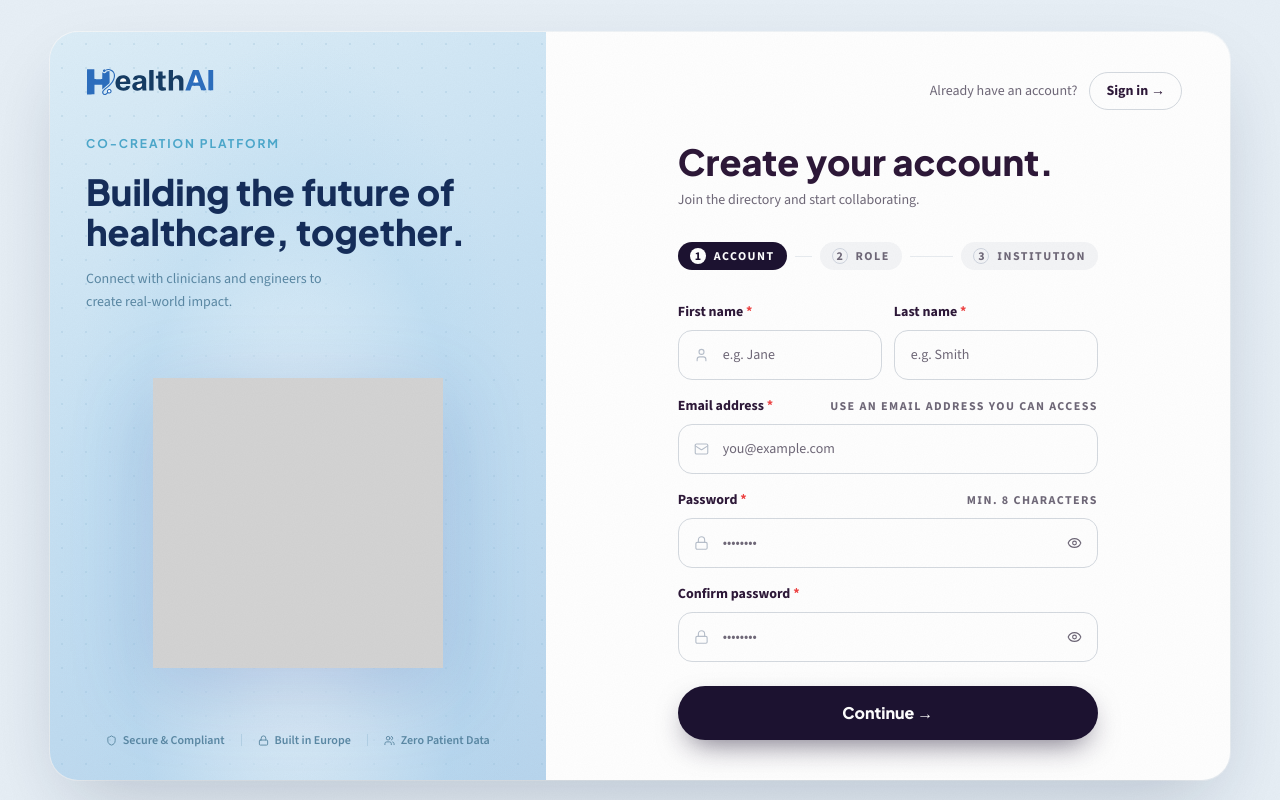
Test: RegisterPage — account step › stays on the account step and explains the problem when the passwords differ
In the field labelled "First name *": x=780, y=355 x1=678 y1=330 x2=882 y2=380, type "Alice"
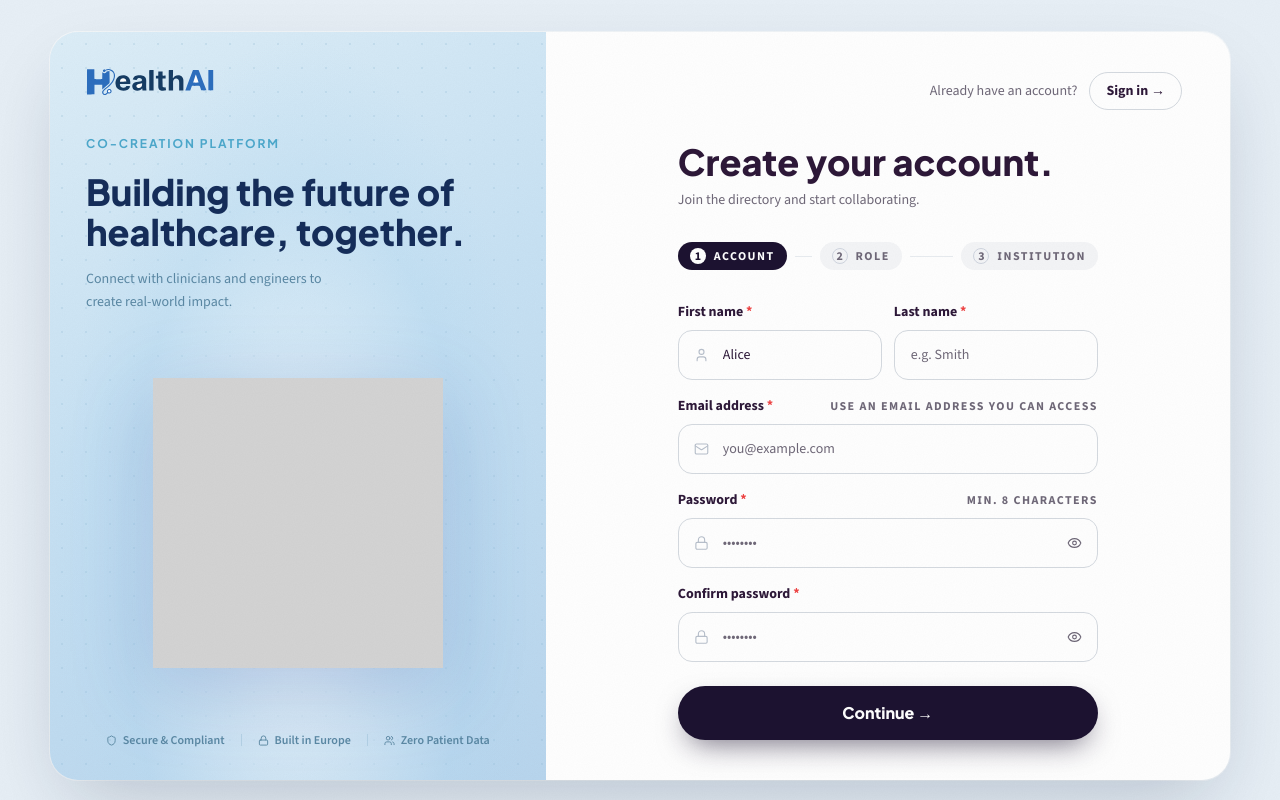
In the field labelled "Last name *": x=996, y=355 x1=894 y1=330 x2=1098 y2=380, type "Smith"
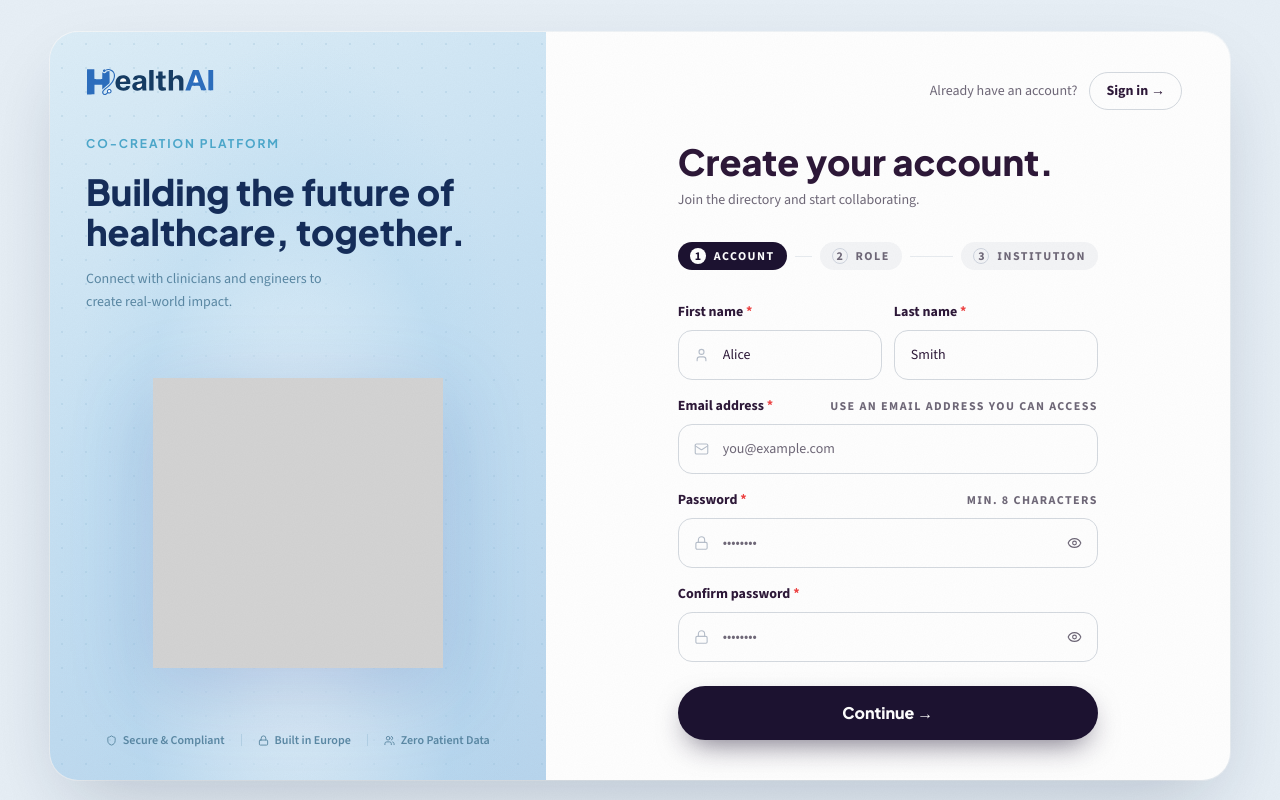
In the field labelled "Email address *": x=888, y=449 x1=678 y1=424 x2=1098 y2=474, type "alice@university.edu"
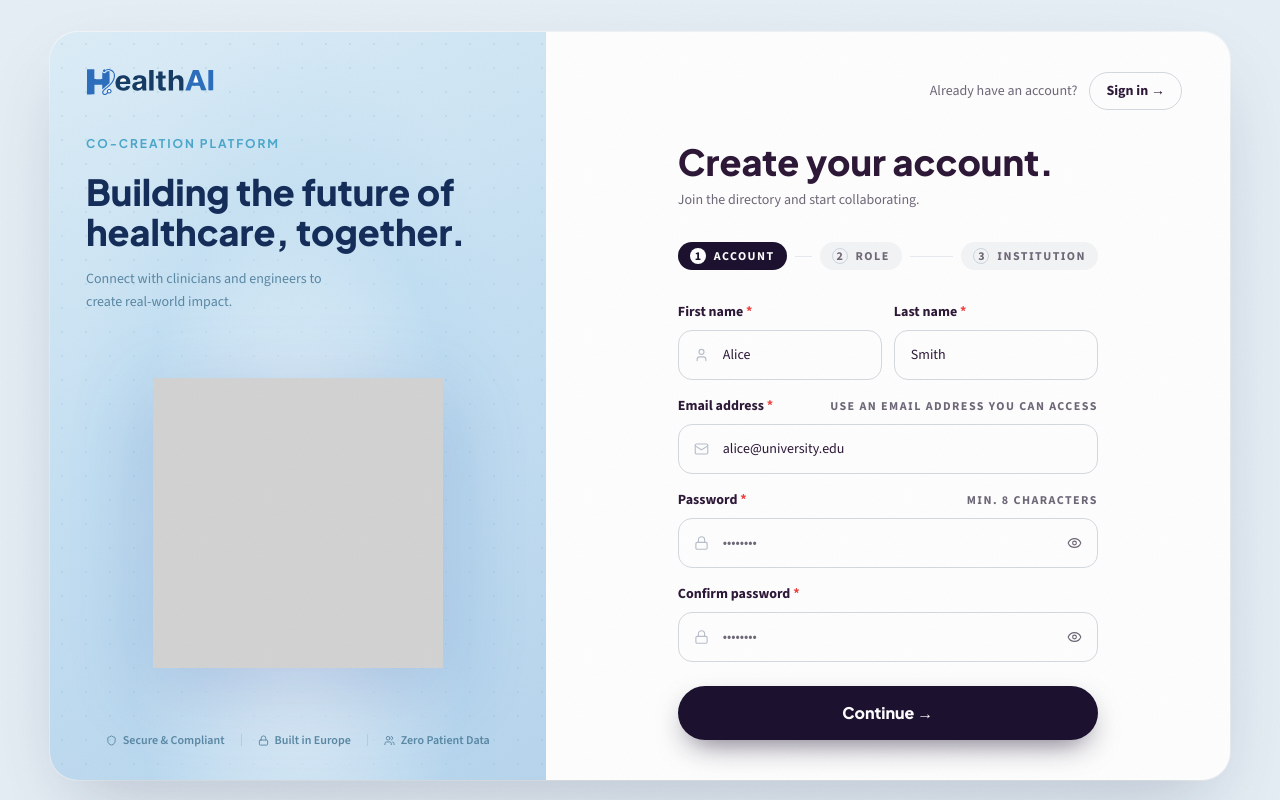
In the password field labelled "Password *": x=888, y=543 x1=678 y1=518 x2=1098 y2=568, type "password123"
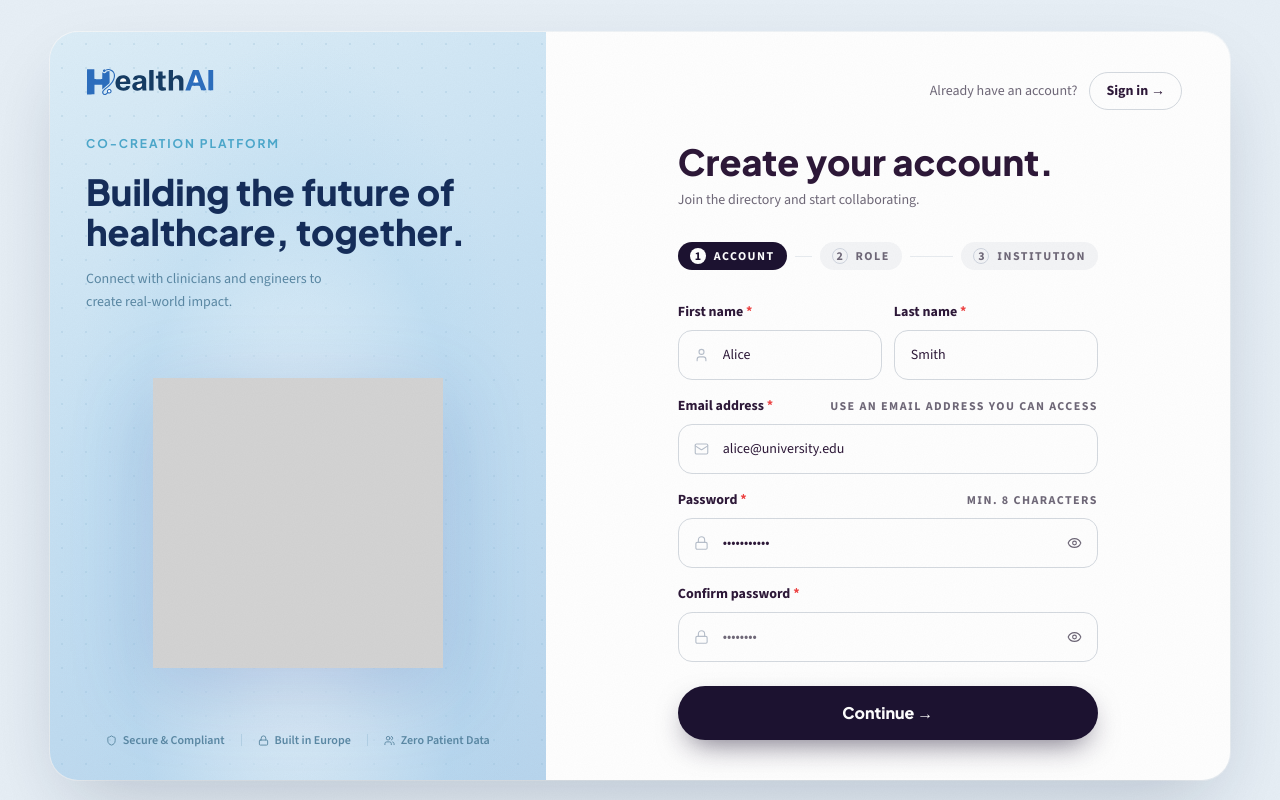
In the password field labelled "Confirm password *": x=888, y=637 x1=678 y1=612 x2=1098 y2=662, type "different123"
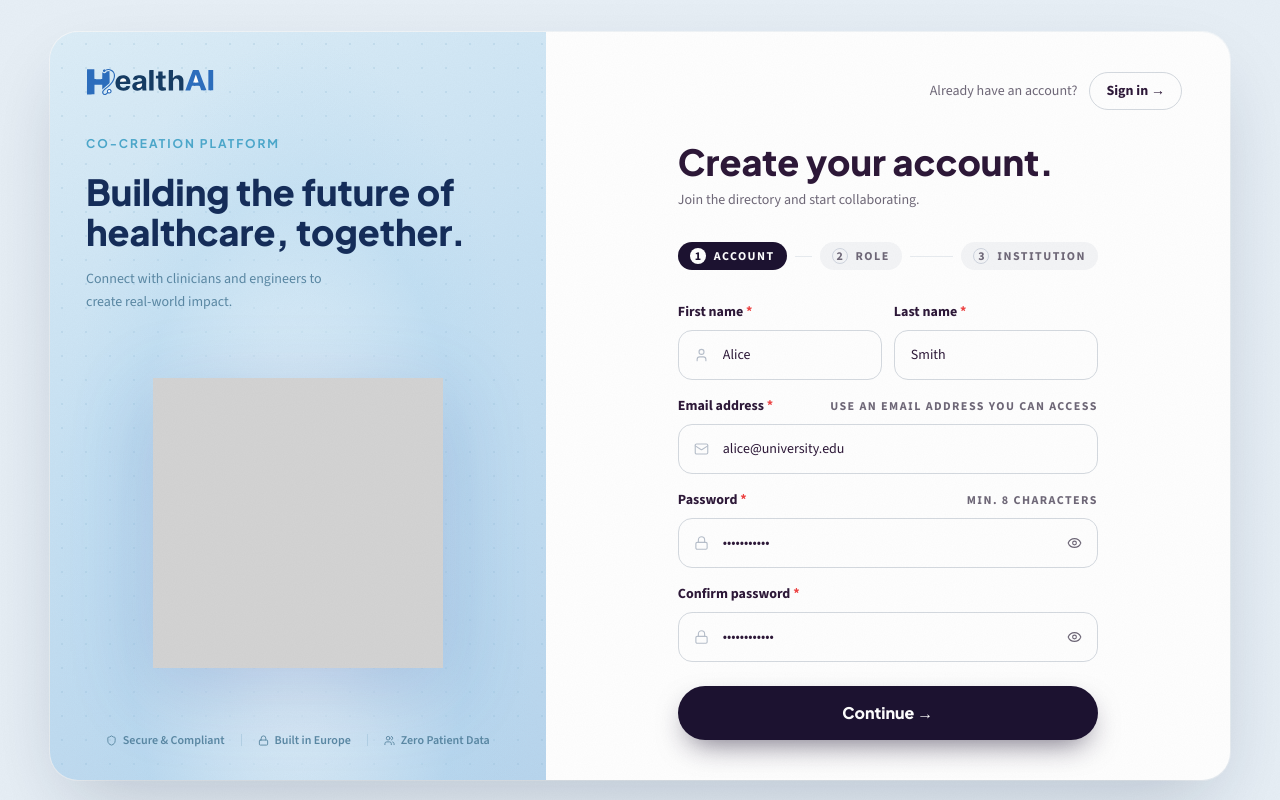
Click the button "Continue →": x=888, y=713 x1=678 y1=686 x2=1098 y2=740
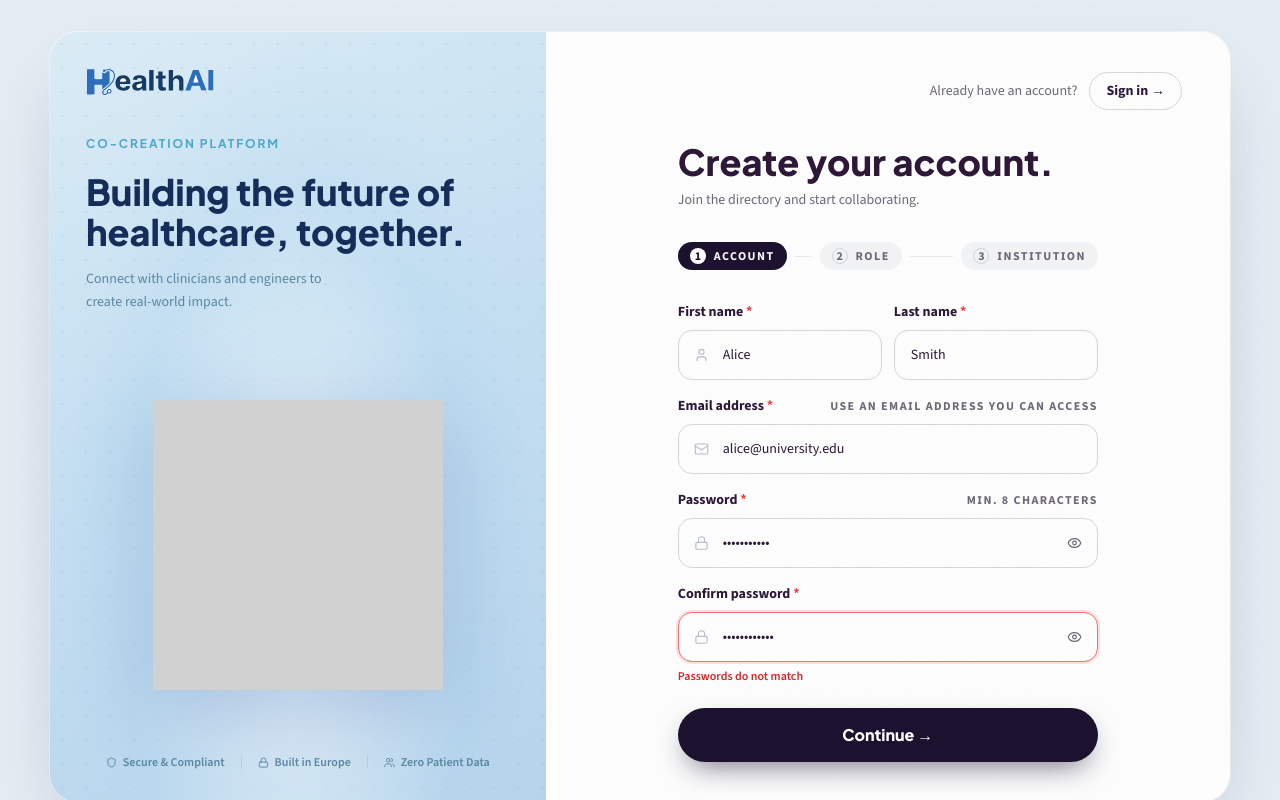
Expected: the text "Passwords do not match" is shown, x1=678 y1=668 x2=803 y2=684
